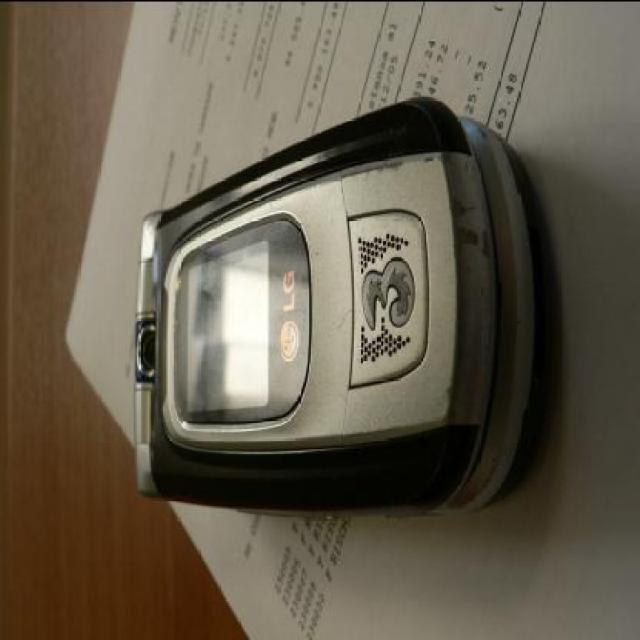phone: (132, 91, 558, 519)
